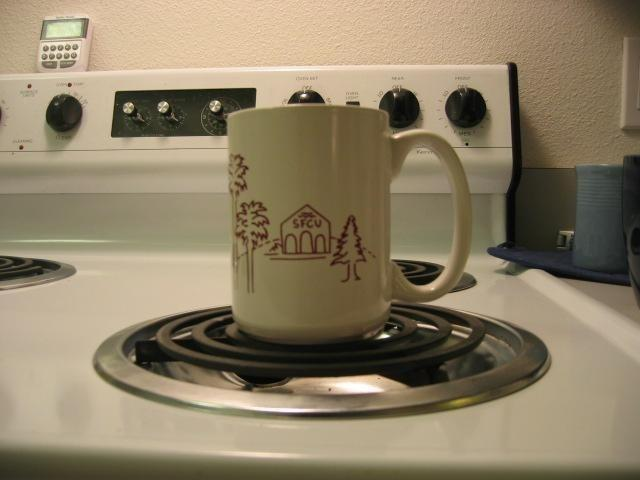cup-handle: (224, 103, 472, 345)
